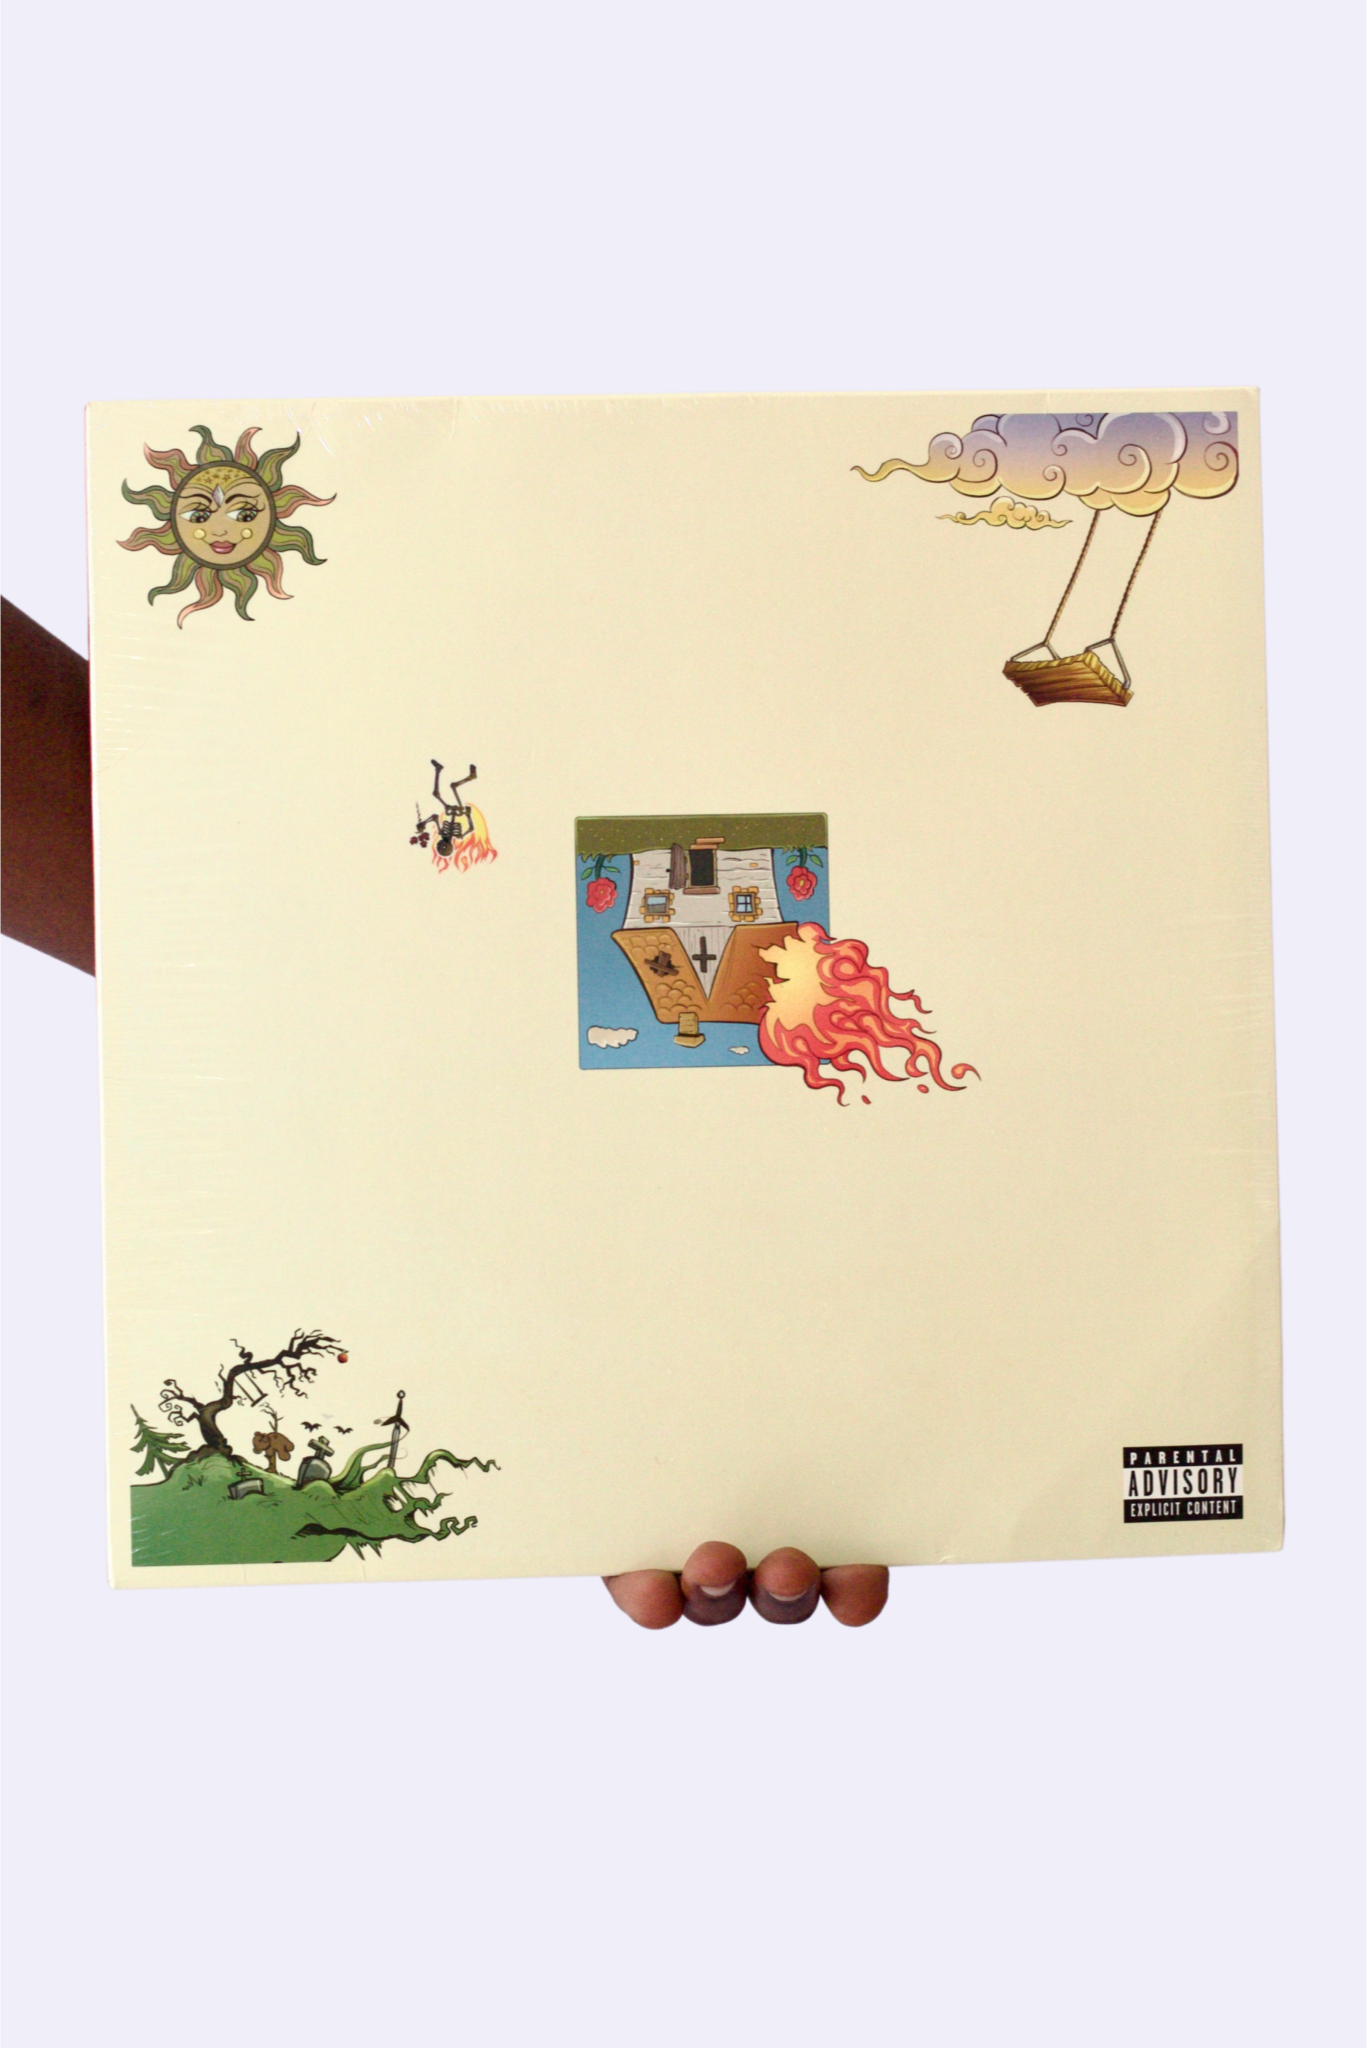rema_raves & roses: (67, 406, 1282, 1594)
